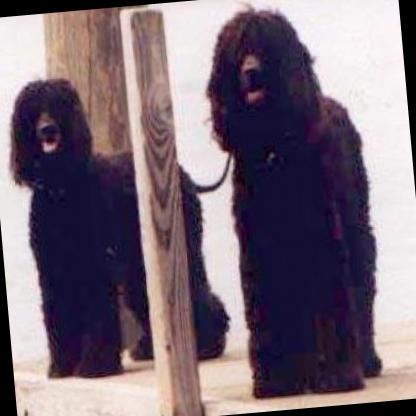Irish_water_spaniel: (194, 0, 395, 408), (2, 62, 248, 384)
